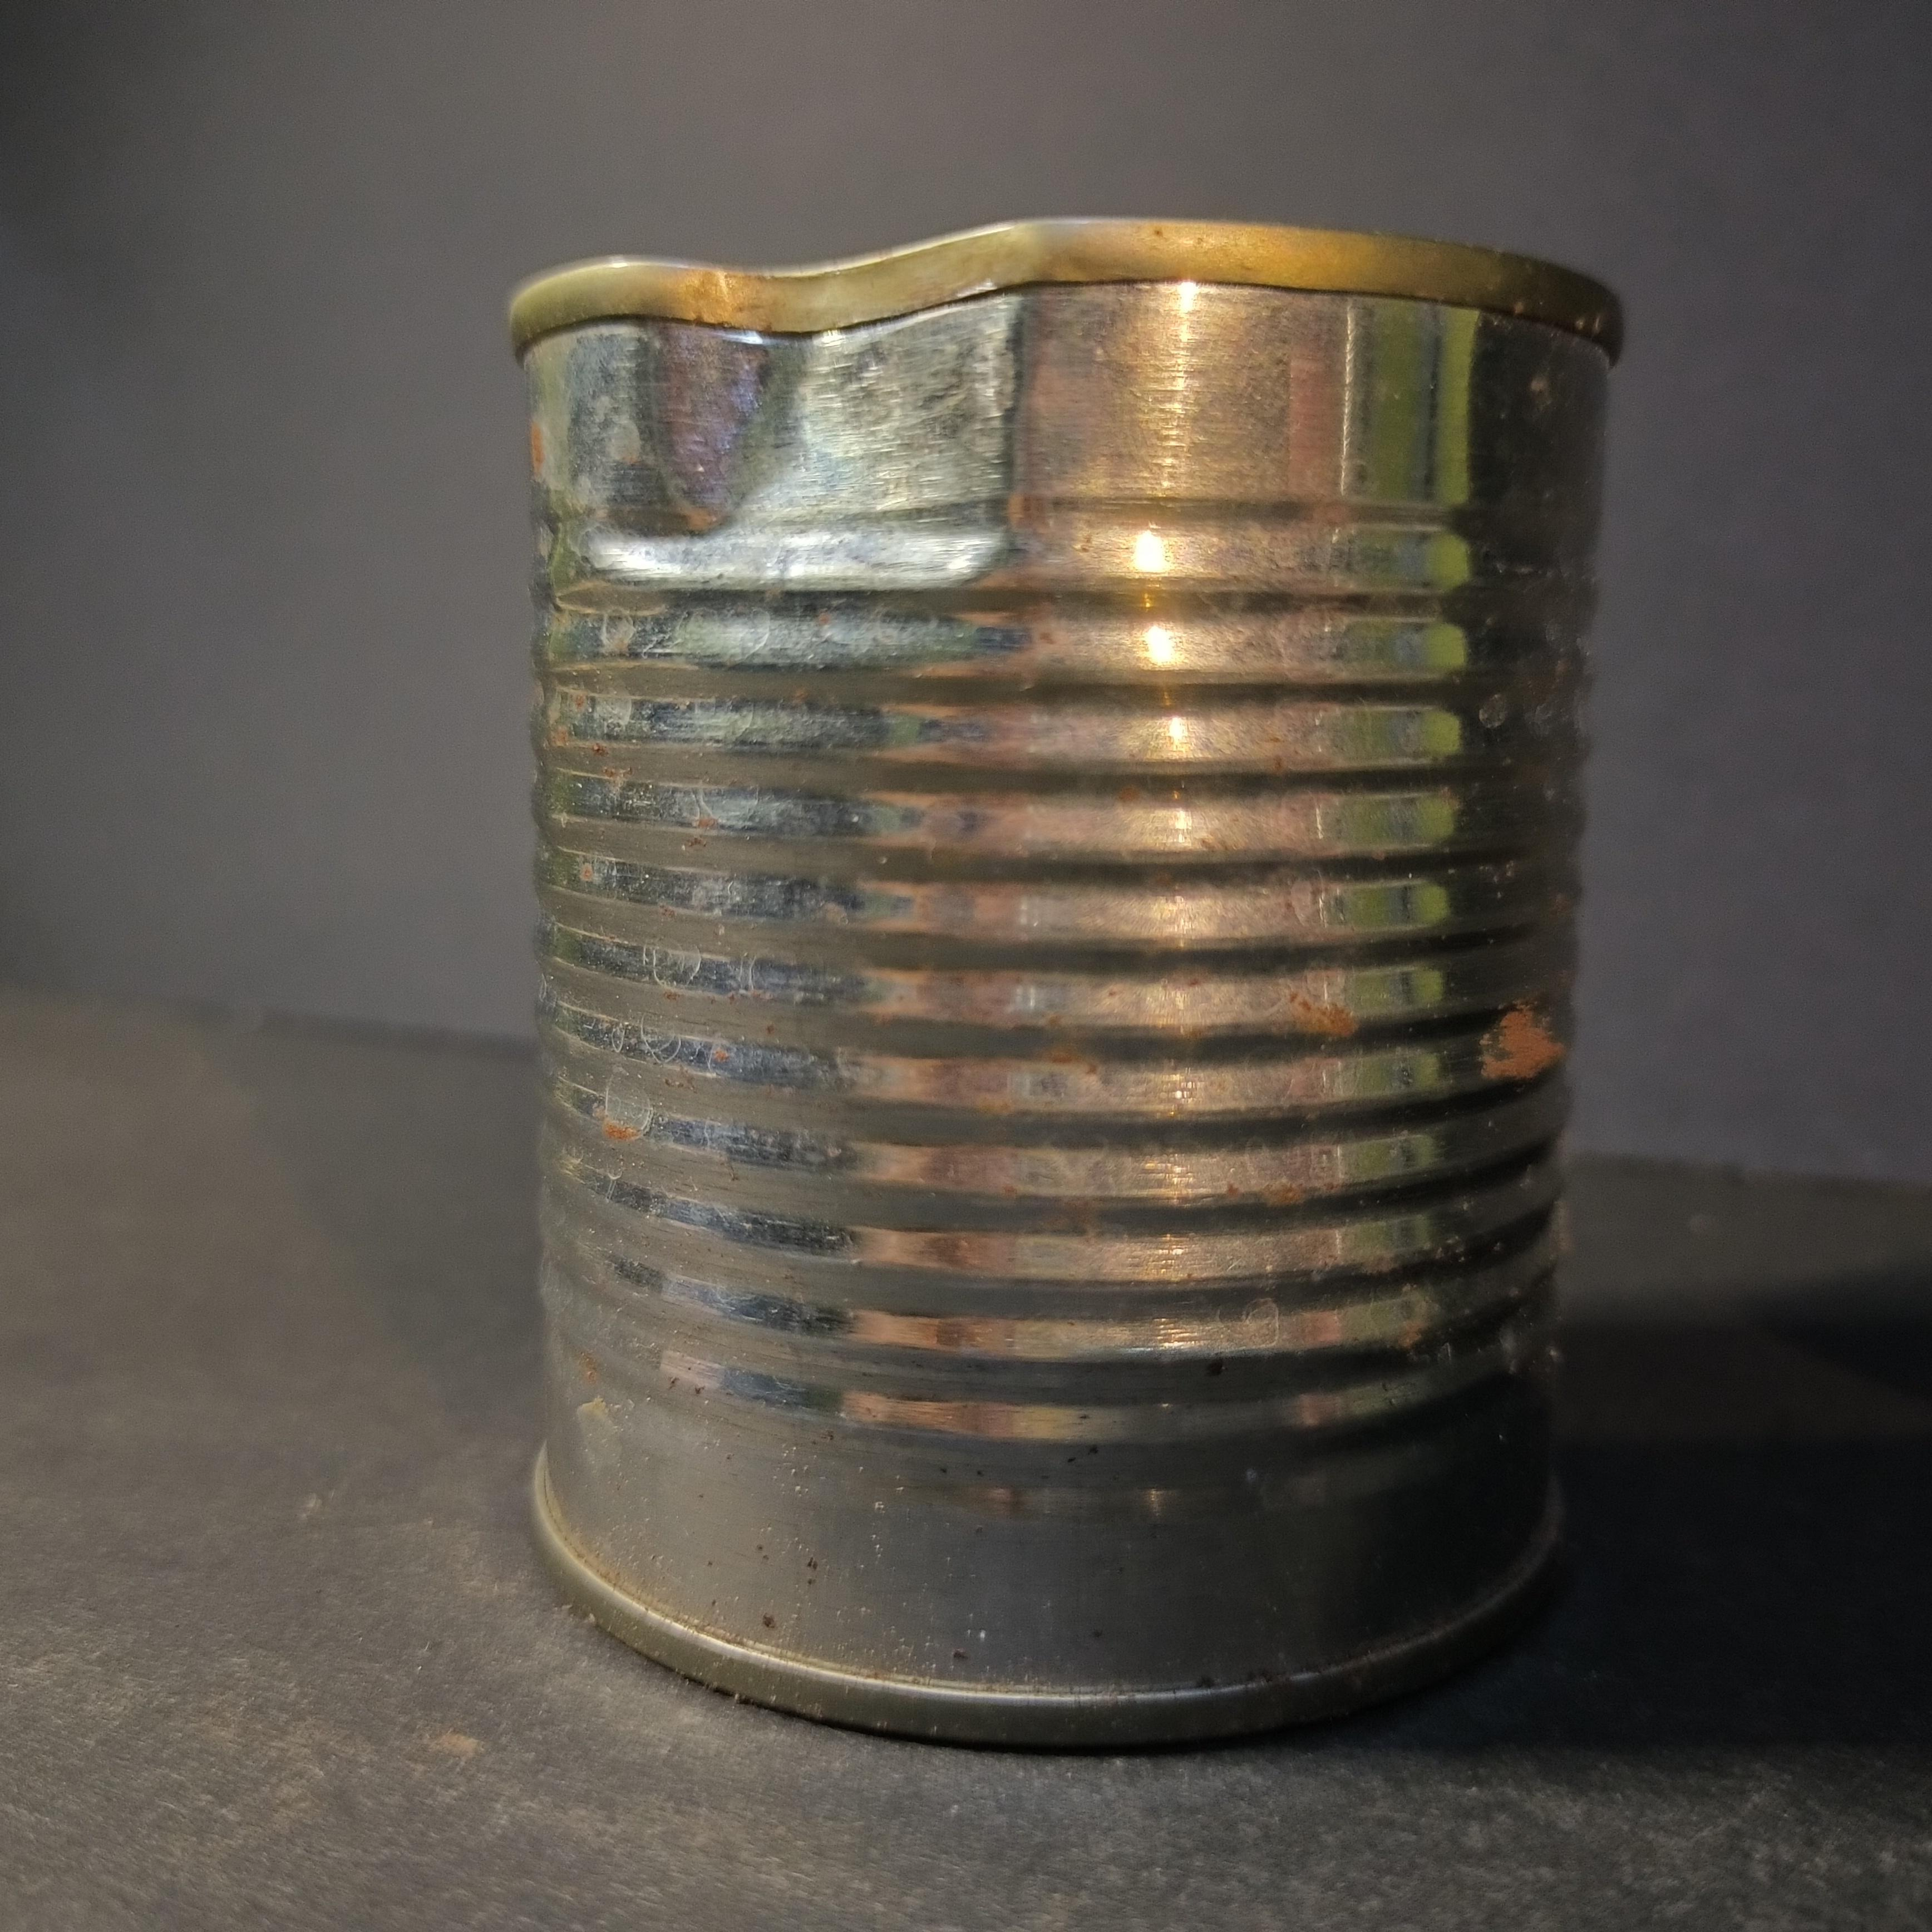Dented: (453, 170, 1652, 1817)
